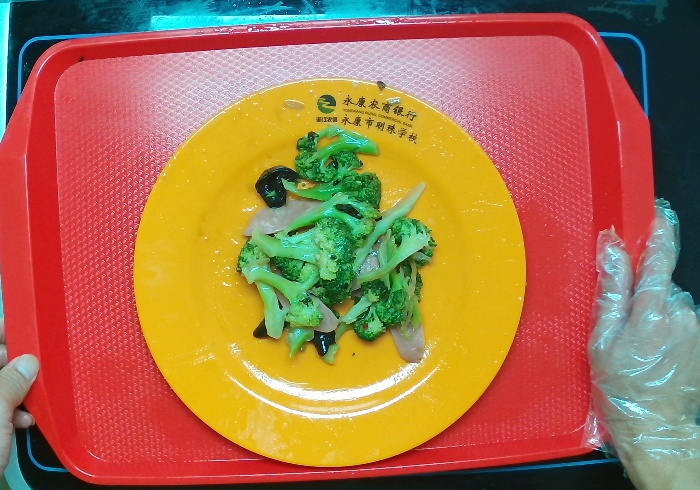YKMZ-Ju_Se_Mian_Pan: (122, 68, 530, 471)
